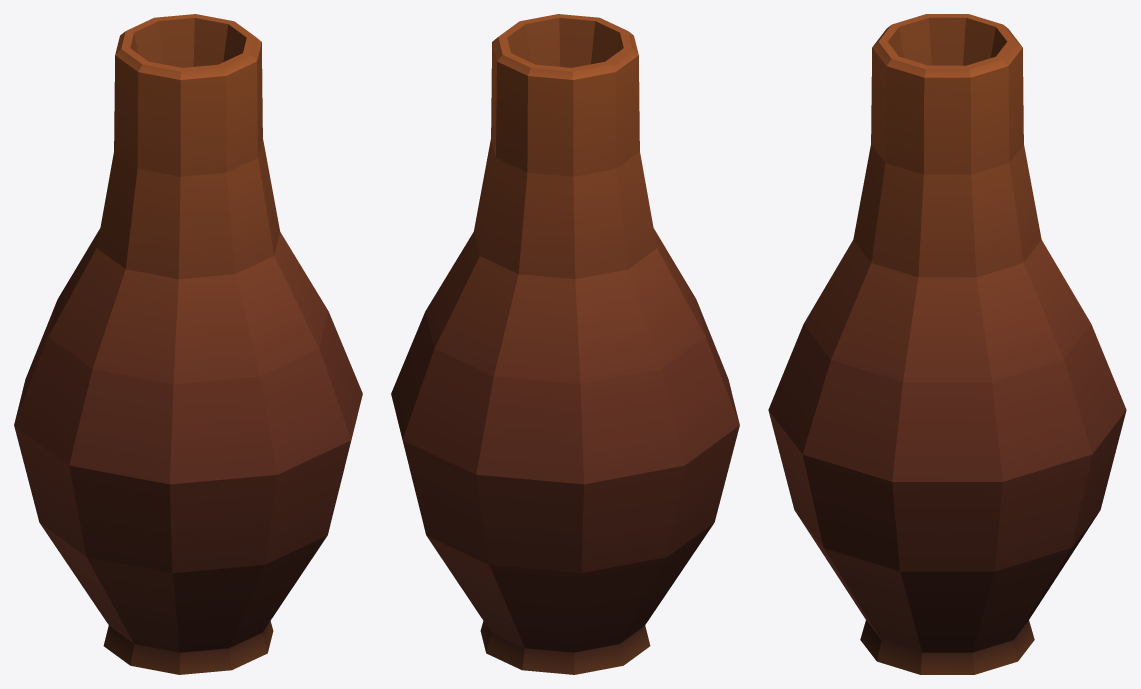
Rendered from Prop_VaseE.fbx.
The picture shows the model from 3 angles, left to right: view 1: azimuth 30°, elevation 25°; view 2: azimuth 150°, elevation 25°; view 3: azimuth 270°, elevation 25°; orthographic projection.
Visible parts, largest first — view 1: Prop_VaseE; view 2: Prop_VaseE; view 3: Prop_VaseE.
Boxes of the visible parts, x1=… form: Prop_VaseE: x1=14, y1=14, x2=362, y2=674; Prop_VaseE: x1=391, y1=14, x2=739, y2=674; Prop_VaseE: x1=768, y1=14, x2=1126, y2=674.
Size of the model in its own units: 24.87 by 48.17 by 26.15.
